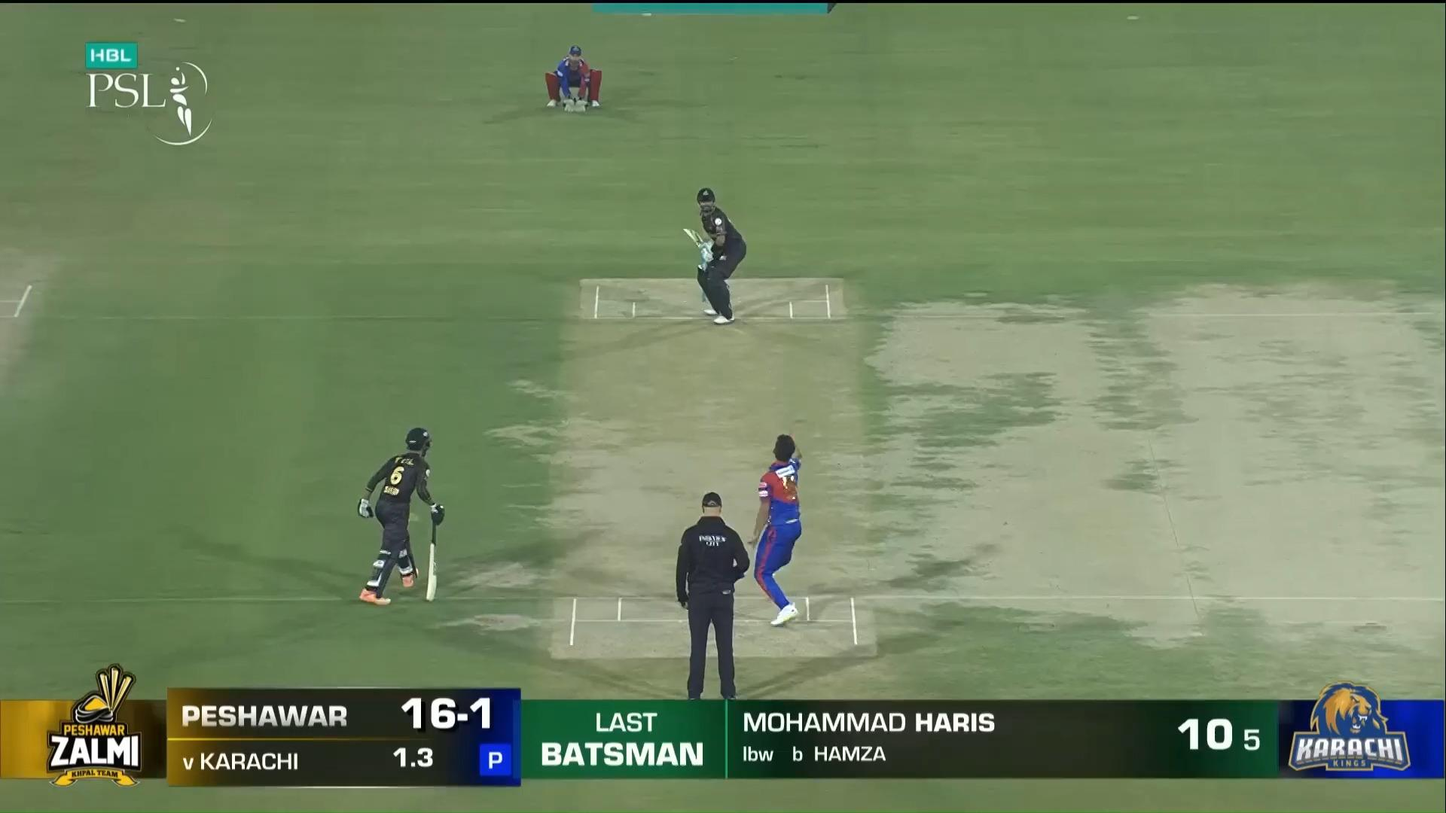batsman: (683, 187, 747, 326)
